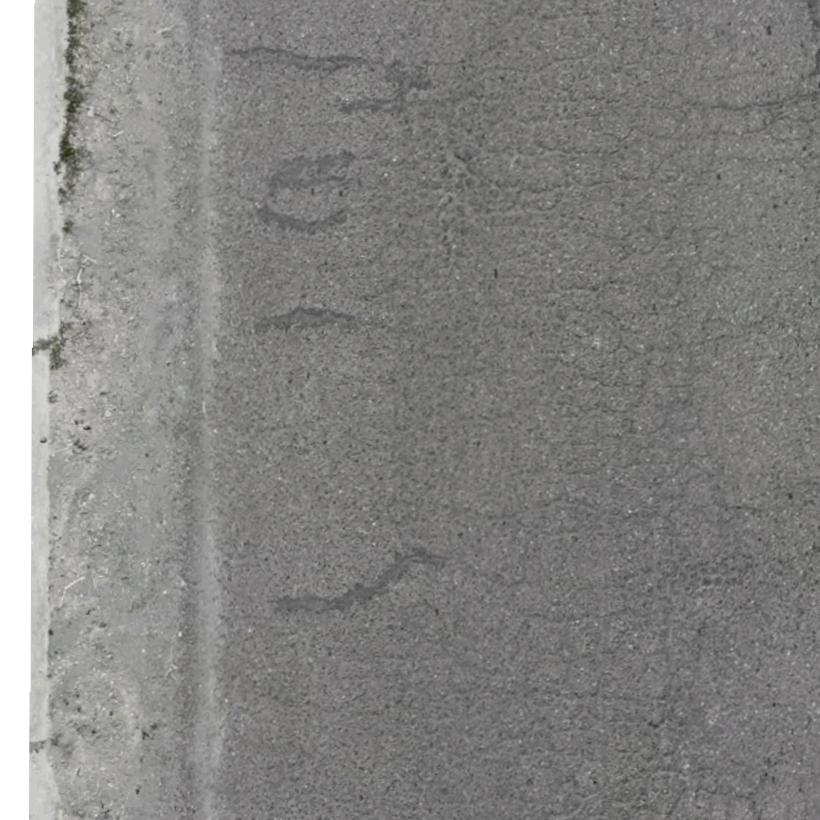GRIETA: (278, 556, 408, 611), (254, 308, 385, 334), (256, 201, 349, 233)
PIEL DE COCODRILO: (382, 0, 819, 819), (228, 48, 362, 68)
